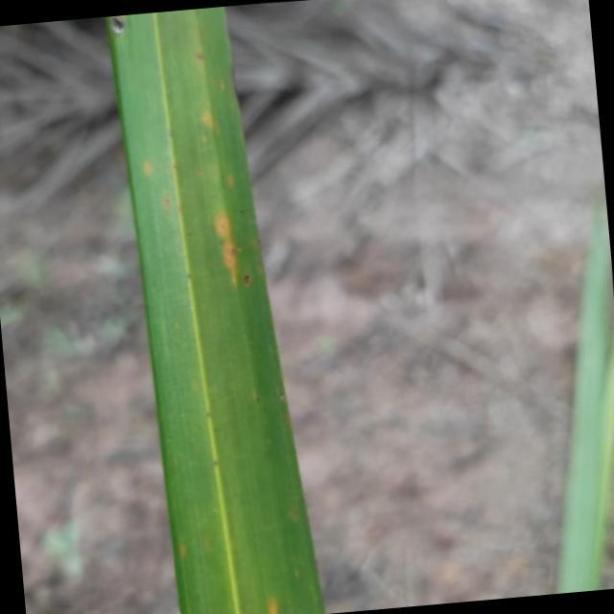Kalium: (115, 3, 326, 614)
